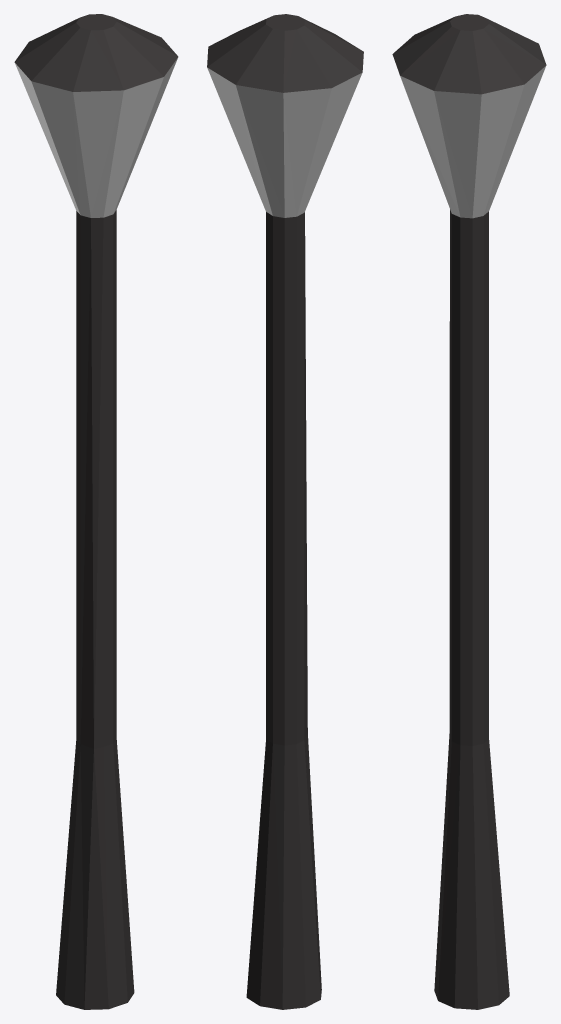
The model's file is lamppost.fbx.
The picture shows the model from 3 angles, left to right: view 1: azimuth 30°, elevation 25°; view 2: azimuth 150°, elevation 25°; view 3: azimuth 270°, elevation 25°; orthographic projection.
Visible parts, largest first — view 1: Mesh; view 2: Mesh; view 3: Mesh.
Boxes of the visible parts, bbox=[...] form: Mesh: bbox=[14, 14, 178, 1009]; Mesh: bbox=[207, 14, 363, 1009]; Mesh: bbox=[392, 14, 546, 1009].
Bounding box in the file's own units: 3.19 × 20.82 × 3.
2 materials, 1 textured.
